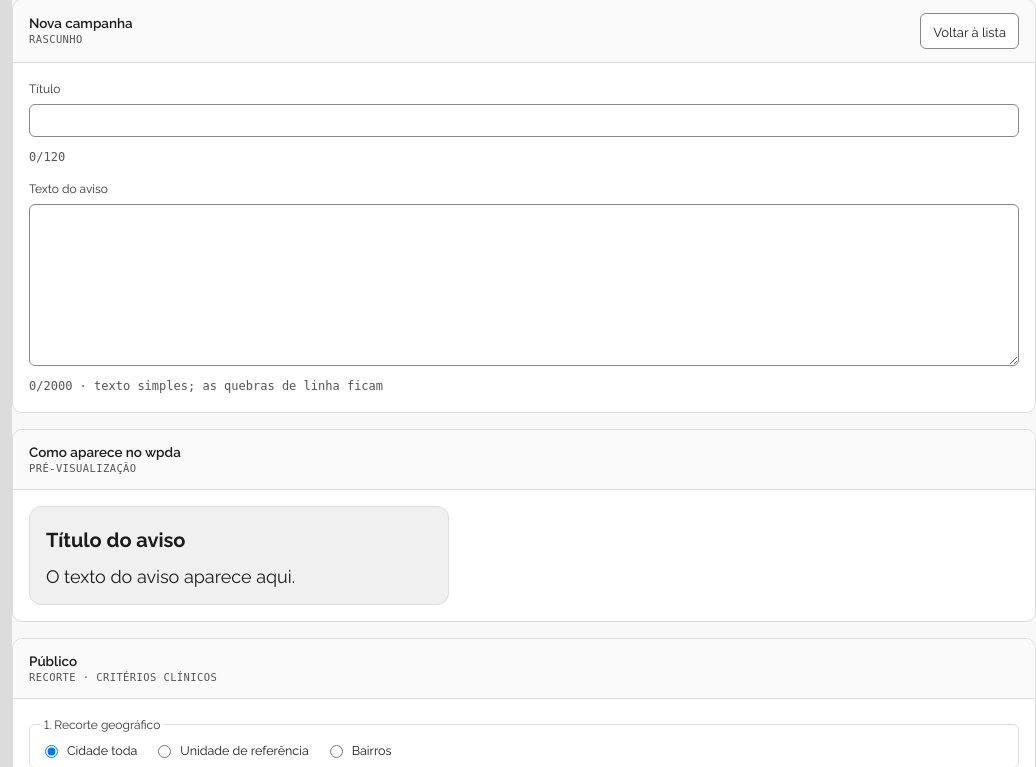
Test: CampaignEditor › público incompleto: não salva e diz o que falta
This screenshot has width=1036, height=767.
Type " Vacina da gripe " into the field labelled "Título" at (524, 121), box [29,104,1019,137]
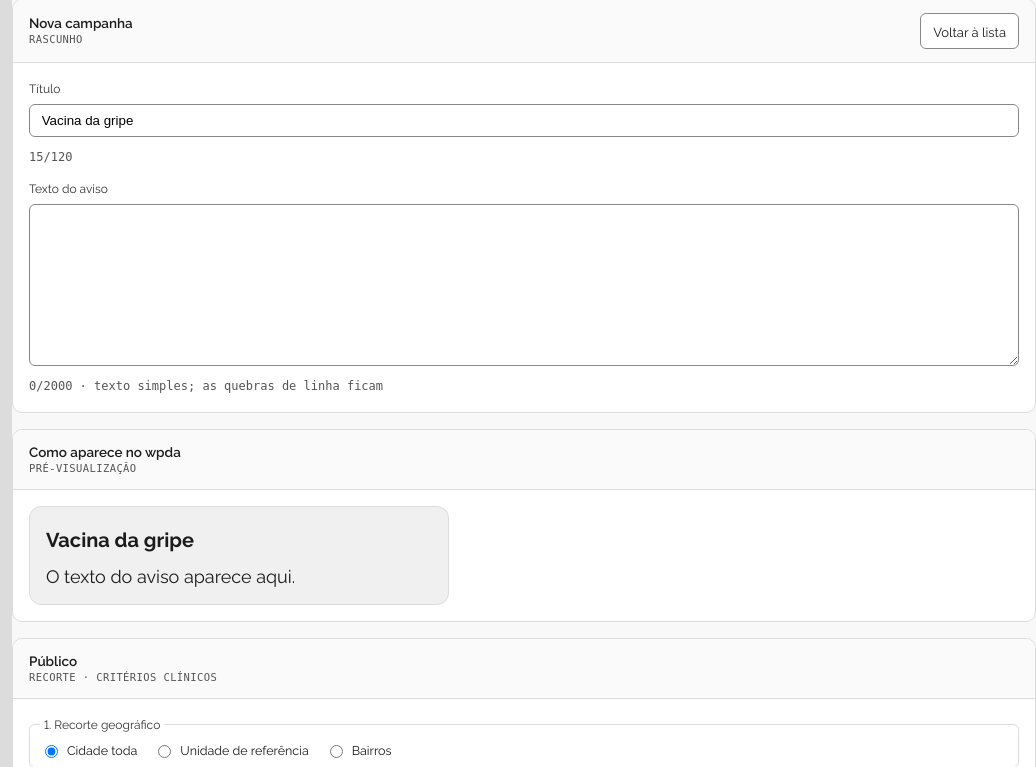
Type "Vacinação no sábado, das 8h às 17h." into the text box labelled "Texto do aviso" at (524, 285), box [29,204,1019,366]
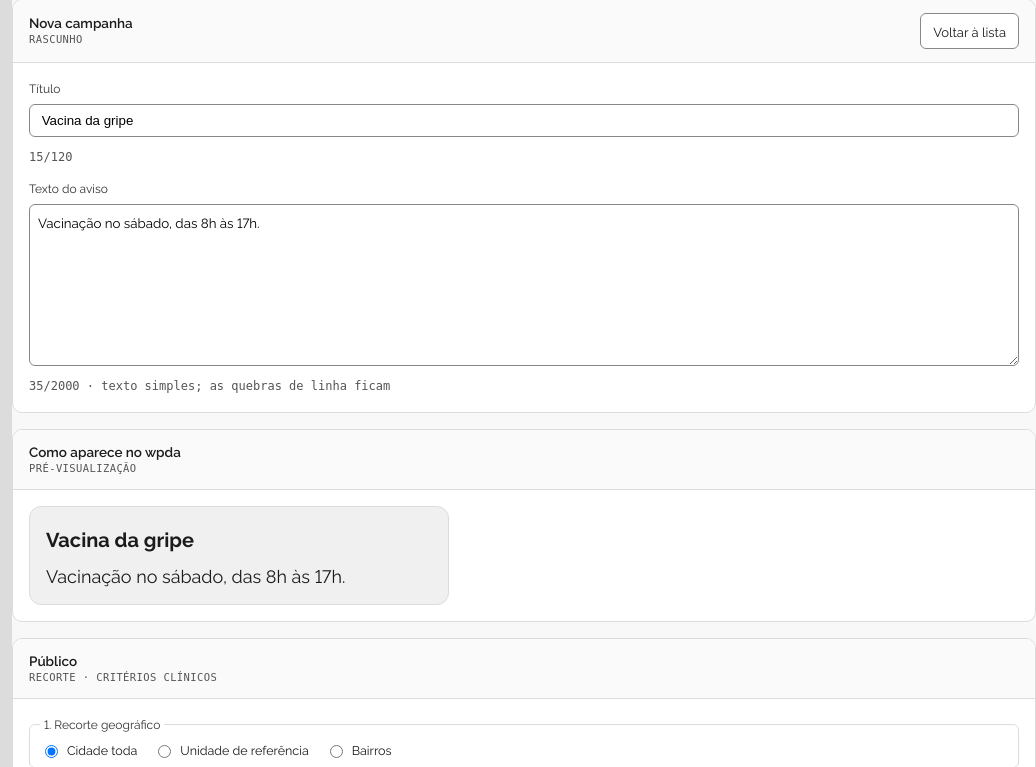
Click the radio button labelled "Bairros" at (336, 751), box [330,745,343,758]
(page scrolled)
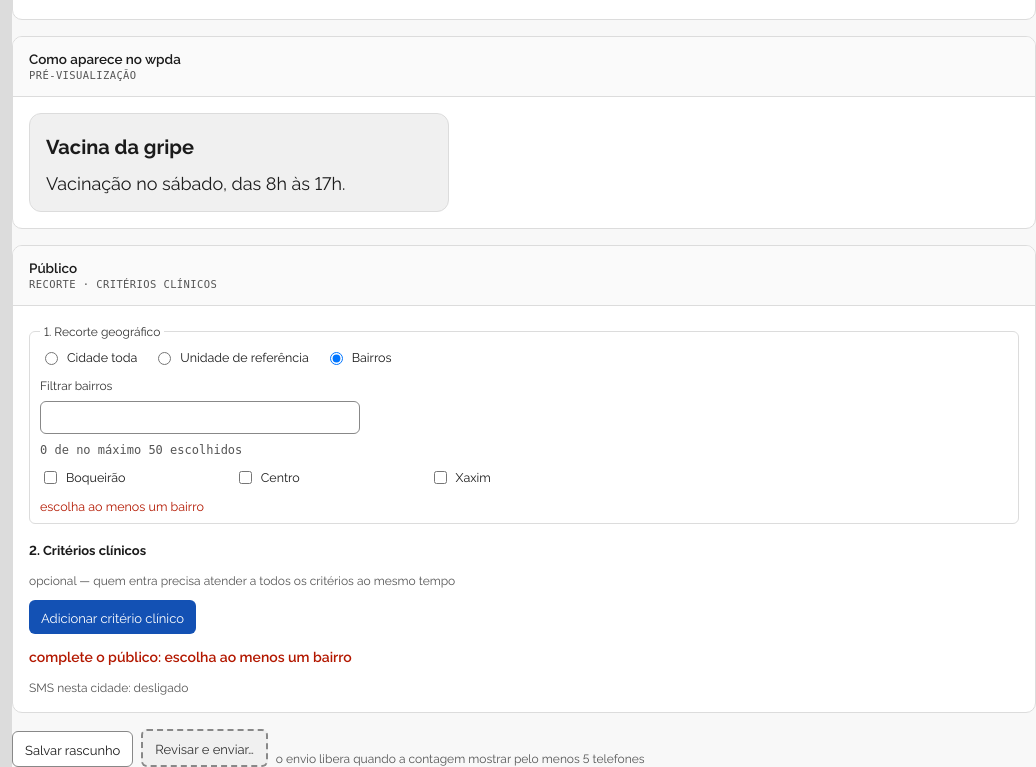
Click the button "Salvar rascunho" at (73, 749), box [12,731,133,766]
(page scrolled)
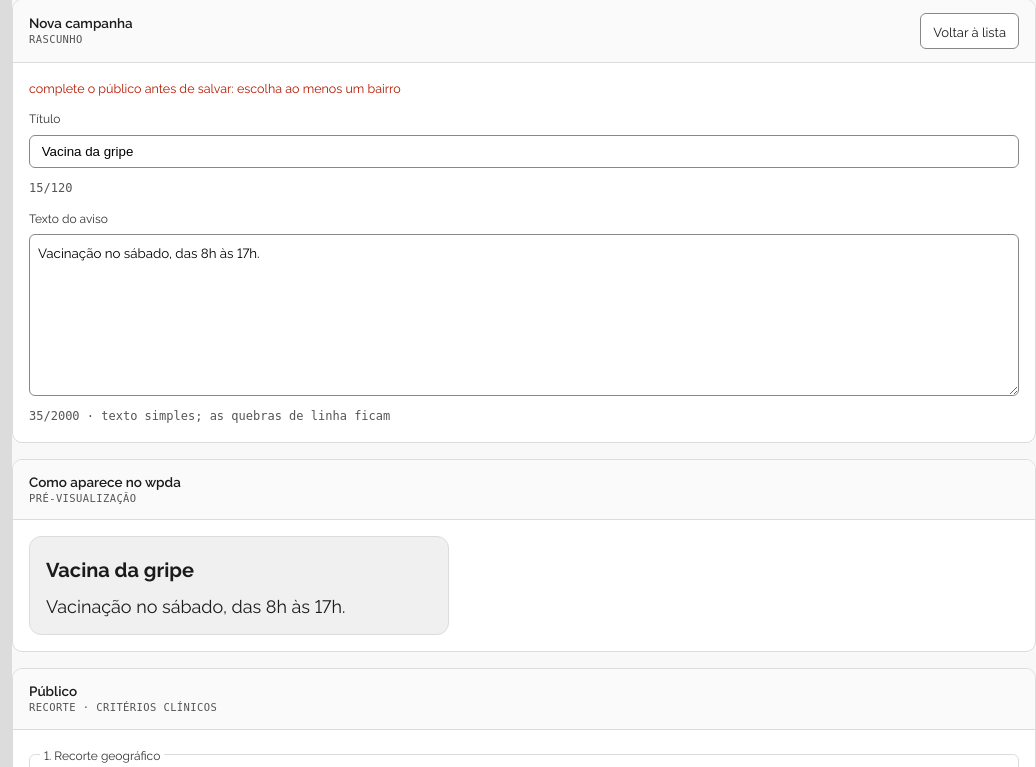
Now the text "complete o público antes de salvar: escolha ao menos um bairro" is shown, box [29,79,401,96]
